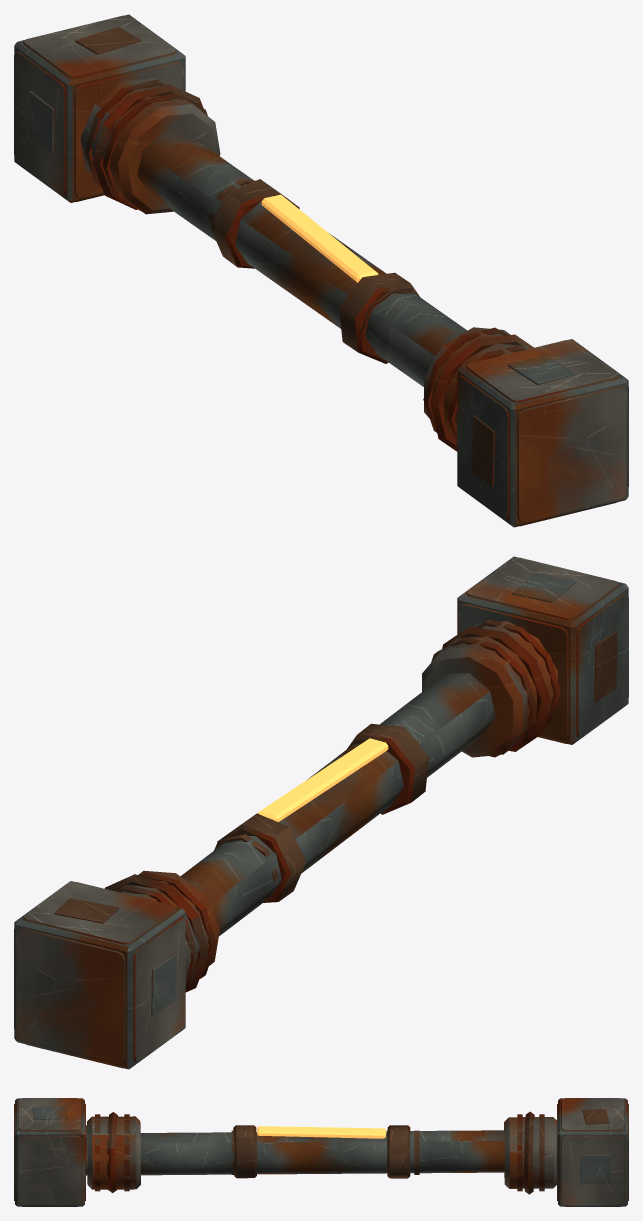
The model's file is R4C_ROD_STANDARD.glb.
The picture shows the model from 3 angles, top to bottom: view 1: azimuth 30°, elevation 25°; view 2: azimuth 150°, elevation 25°; view 3: azimuth 270°, elevation 25°; orthographic projection. The views are drawn at different scales.
Visible parts, largest first — view 1: R4C_ROD_STANDARD; view 2: R4C_ROD_STANDARD; view 3: R4C_ROD_STANDARD.
Part boxes in pixels (left/top/right/bottom): R4C_ROD_STANDARD: left=14, top=14, right=628, bottom=527; R4C_ROD_STANDARD: left=14, top=556, right=628, bottom=1069; R4C_ROD_STANDARD: left=14, top=1098, right=628, bottom=1206.
Bounding box in the file's own units: 0.232 × 0.23 × 1.62.
5 materials, 4 textured.
